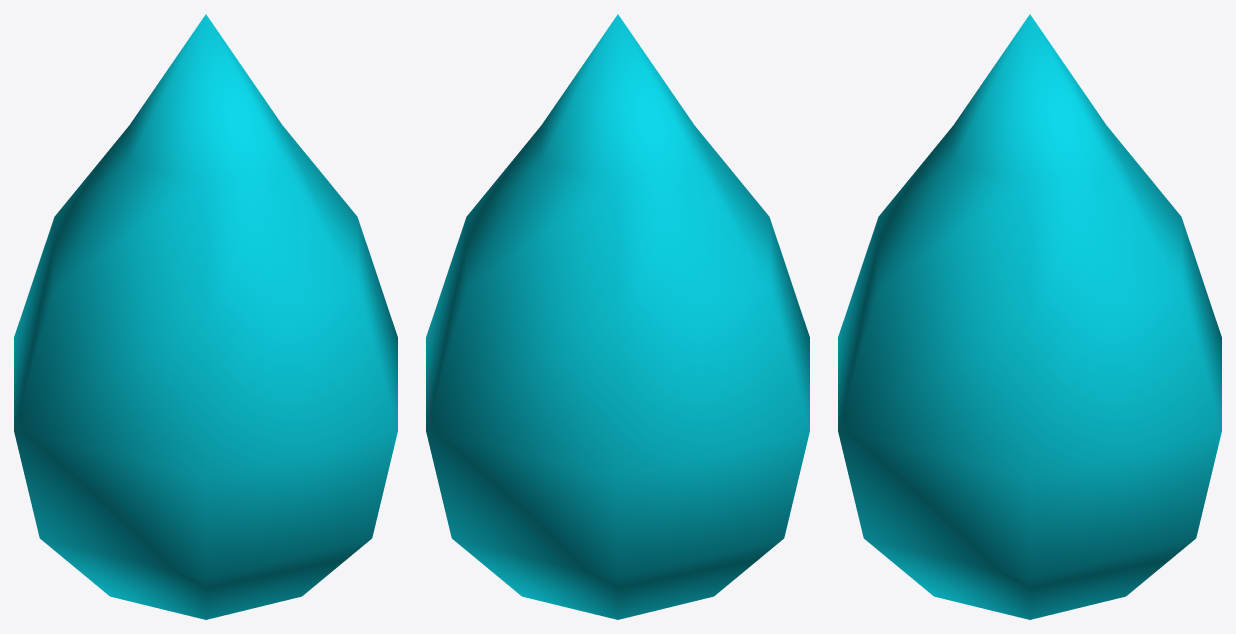
The model's file is WaterDrop.fbx.
3 renders of one model, left to right at view 1: azimuth 30°, elevation 25°; view 2: azimuth 150°, elevation 25°; view 3: azimuth 270°, elevation 25°, orthographic.
Visible parts, largest first — view 1: WaterDrop; view 2: WaterDrop; view 3: WaterDrop.
Part boxes in pixels (x1,y1,x2,y2): WaterDrop: (14, 14, 397, 619); WaterDrop: (426, 14, 809, 619); WaterDrop: (838, 14, 1221, 619).
Bounding box in the file's own units: 23.44 × 34.18 × 20.3.
